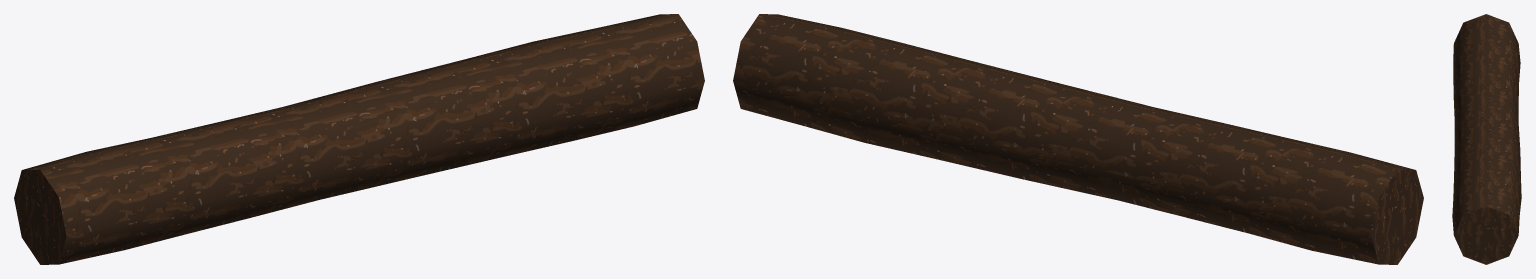
The model's file is Log.fbx.
3 views of the same model, side by side, from view 1: azimuth 30°, elevation 25°; view 2: azimuth 150°, elevation 25°; view 3: azimuth 270°, elevation 25° (orthographic). The views are drawn at different scales.
Visible parts, largest first — view 1: pCylinder1; view 2: pCylinder1; view 3: pCylinder1.
Part boxes in pixels (bbox=[...]): pCylinder1: bbox=[14, 14, 704, 264]; pCylinder1: bbox=[733, 14, 1423, 264]; pCylinder1: bbox=[1452, 14, 1521, 264].
Bounding box in the file's own units: 16.32 × 2.45 × 2.49.
